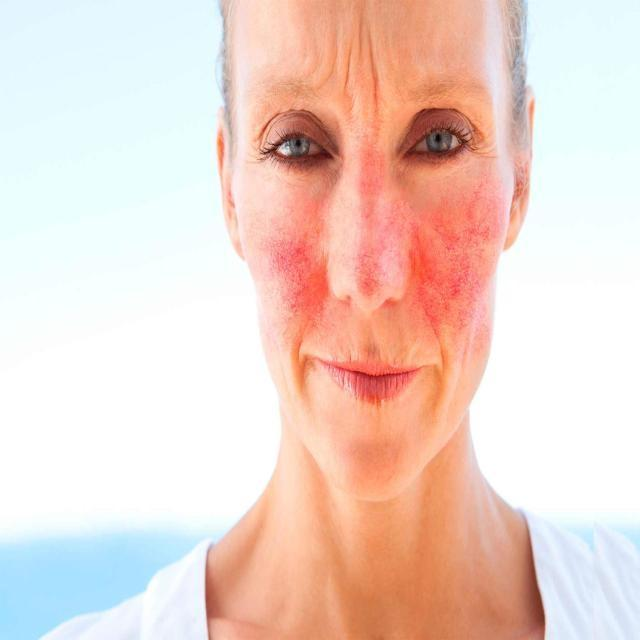Rosacea: (411, 169, 502, 354), (339, 124, 402, 296), (254, 209, 329, 346)
